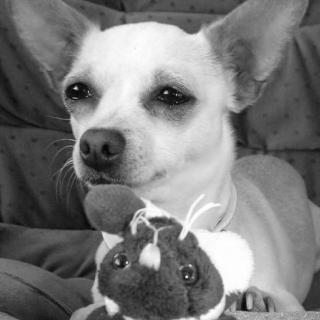dog: (1, 0, 320, 197)
nose: (75, 128, 127, 169)
